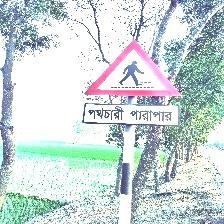Pedestrian-crossing: (83, 40, 182, 127)
